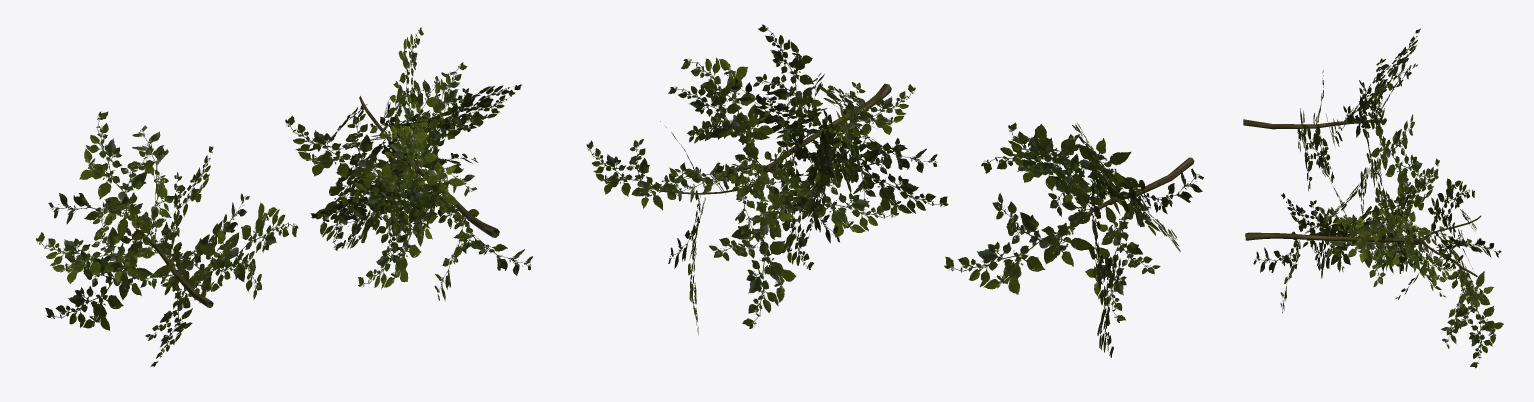
The model's file is NightShade.fbx.
The picture shows the model from 3 angles, left to right: view 1: azimuth 30°, elevation 25°; view 2: azimuth 150°, elevation 25°; view 3: azimuth 270°, elevation 25°; orthographic projection. The views are drawn at different scales.
Visible parts, largest first — view 1: LargeNightShade, NightShade; view 2: LargeNightShade, NightShade; view 3: LargeNightShade, NightShade.
Boxes of the visible parts, x1=… form: LargeNightShade: x1=285, y1=27, x2=532, y2=301; NightShade: x1=36, y1=111, x2=298, y2=366; LargeNightShade: x1=586, y1=24, x2=948, y2=334; NightShade: x1=944, y1=122, x2=1203, y2=357; LargeNightShade: x1=1245, y1=158, x2=1503, y2=368; NightShade: x1=1243, y1=28, x2=1438, y2=224.
Bounding box in the file's own units: 518 × 275 × 280.
